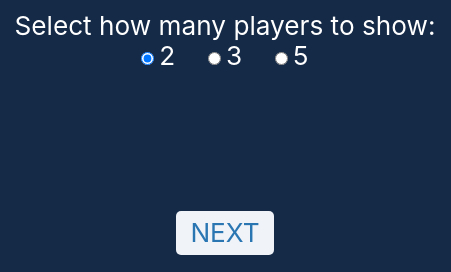
Test case: TEST PlayersContainer › should update checkbox correctly
This screenshot has width=451, height=272.
expect the radio button labelled "2" is checked: met, box [141,52,154,65]
Click the radio button labelled "3".
click(215, 59)  # box [208,52,221,65]
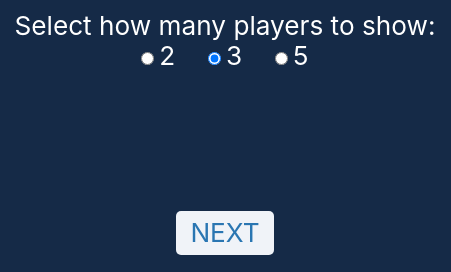
expect the radio button labelled "5" is not checked: met, box [275,52,288,65]
expect the radio button labelled "3" is checked: met, box [208,52,221,65]
expect the radio button labelled "2" is not checked: met, box [141,52,154,65]
